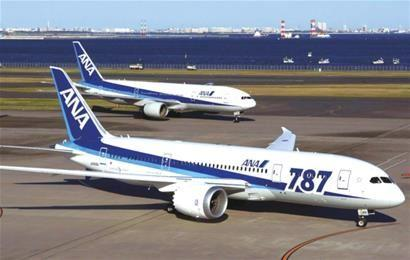airplane: (45, 65, 408, 224), (64, 41, 265, 129)
